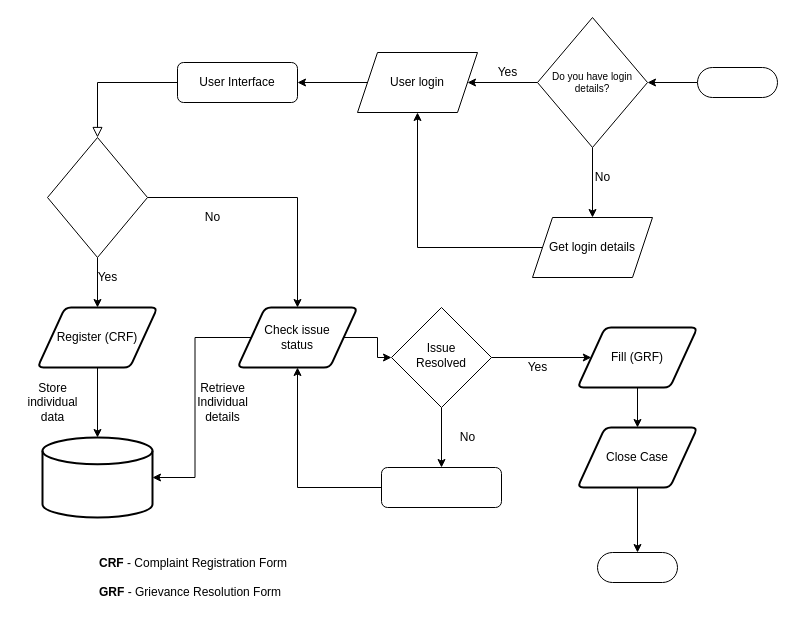
Some shapes in this 795 by 620 pixel diagram are drawn without their labels. The centre of each missing label's shape, as x and y in pixels:
Choose another action (wait): point (441, 487)
Cloud Database: point (97, 477)
End: point (637, 567)
Is Individual / client new ?: point (97, 197)
Start: point (737, 82)
